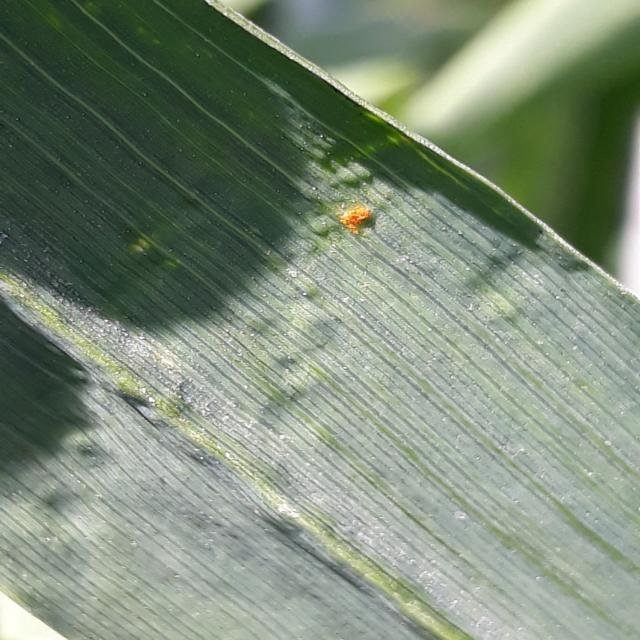orang_rust: (312, 135, 408, 303)
